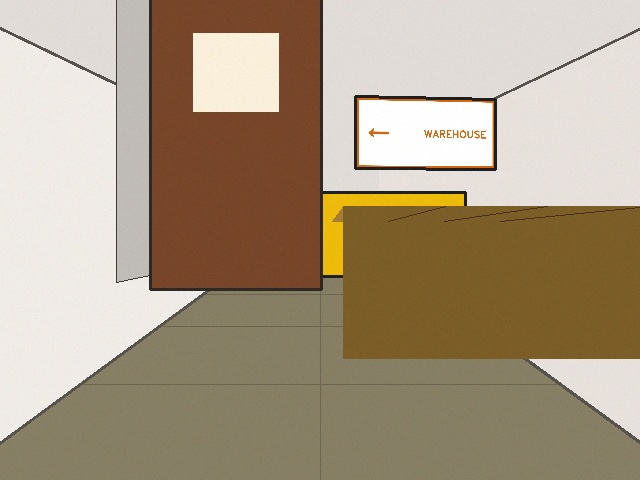directional_sign: (355, 96, 495, 169)
door: (150, 0, 321, 289)
forklift: (319, 192, 465, 276)
pallet: (332, 206, 639, 358)
